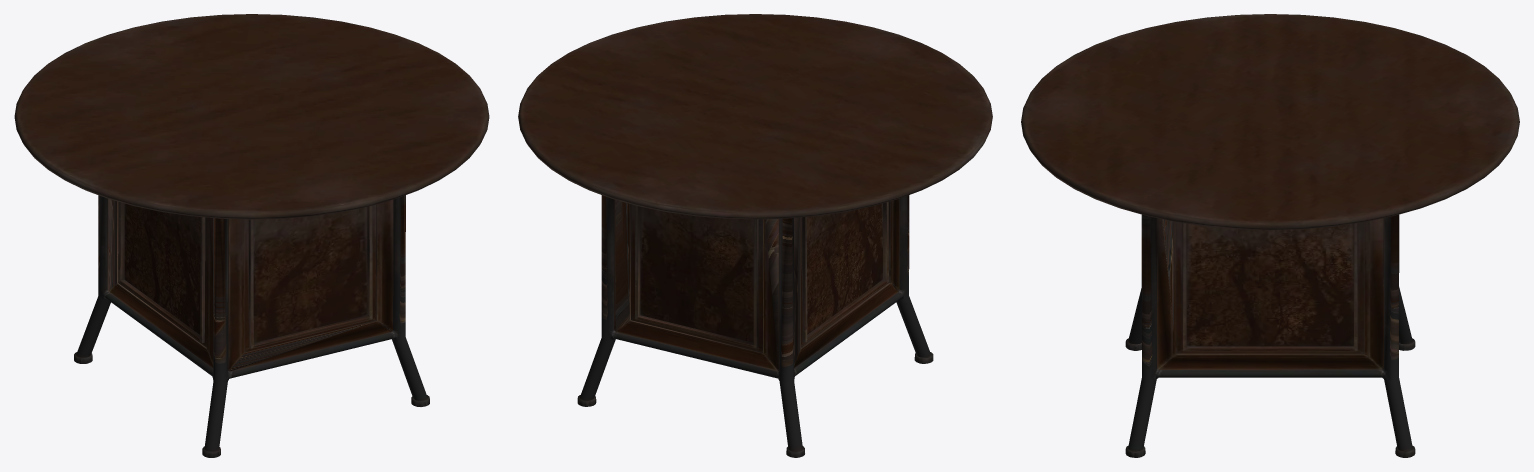
Rendered from round_wooden_table_02_lod1.glb.
The picture shows the model from 3 angles, left to right: view 1: azimuth 30°, elevation 25°; view 2: azimuth 150°, elevation 25°; view 3: azimuth 270°, elevation 25°; orthographic projection. The views are drawn at different scales.
Visible parts, largest first — view 1: round_wooden_table_02; view 2: round_wooden_table_02; view 3: round_wooden_table_02.
Boxes of the visible parts, bbox=[...] form: round_wooden_table_02: bbox=[14, 14, 489, 457]; round_wooden_table_02: bbox=[518, 14, 992, 457]; round_wooden_table_02: bbox=[1021, 14, 1519, 457].
Bounding box in the file's own units: 1.2 × 0.7499 × 1.2.
1 material, 1 textured.
